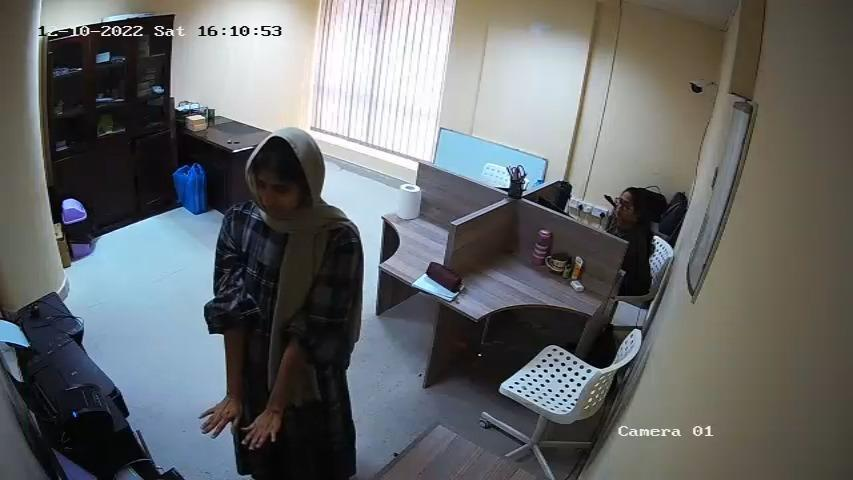no_apron: (196, 394, 242, 442), (244, 408, 284, 452)
no_gloves: (244, 122, 344, 182), (619, 177, 665, 221)
no_hairnet: (248, 180, 312, 232), (606, 188, 642, 230)
